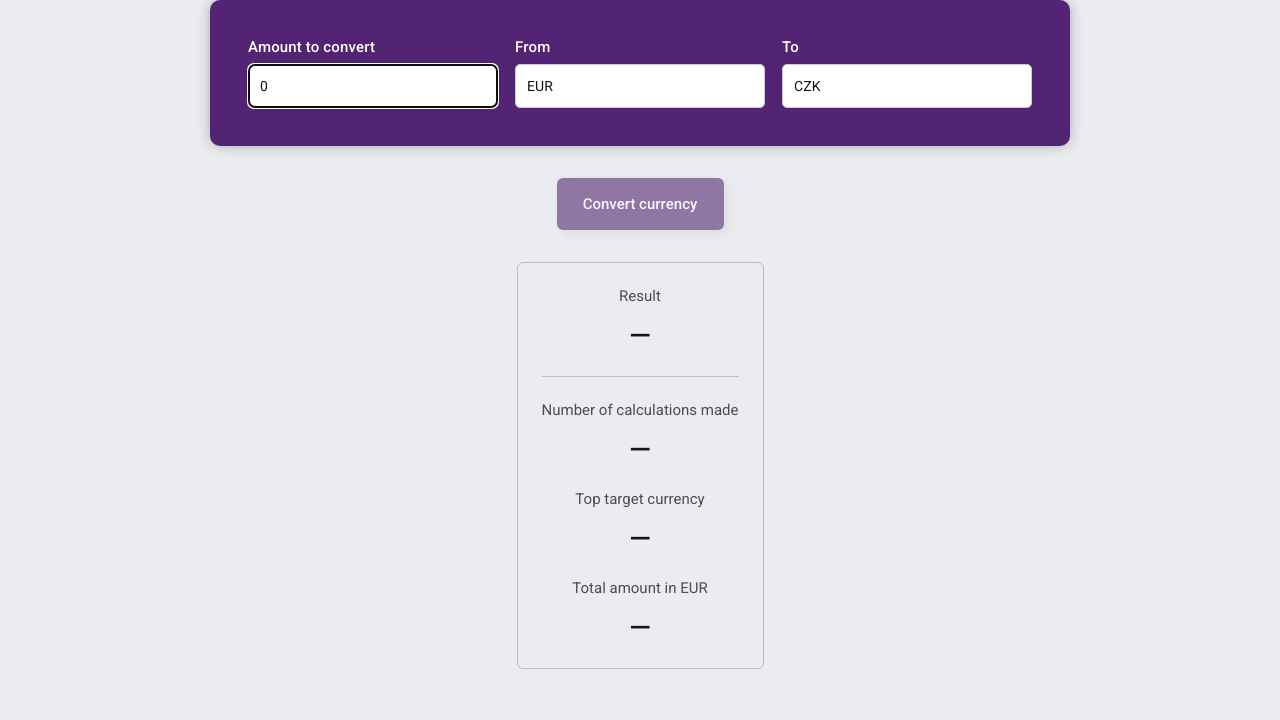
Test: the conversion form › renders an API error translated by its key with its params
The image size is (1280, 720).
Type "5" into the field labelled "Amount to convert" at point(373, 86), box x1=248 y1=64 x2=498 y2=108
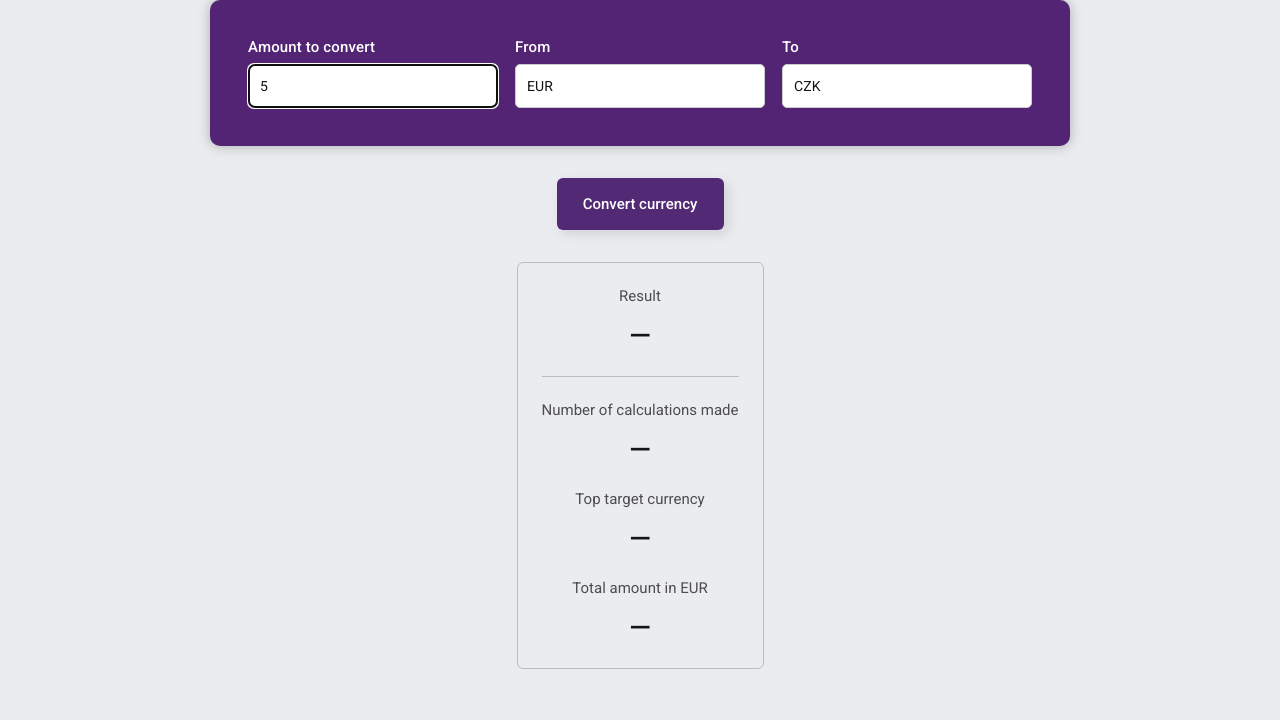
Click the button "Convert currency" at point(640, 204), box x1=556 y1=178 x2=724 y2=230
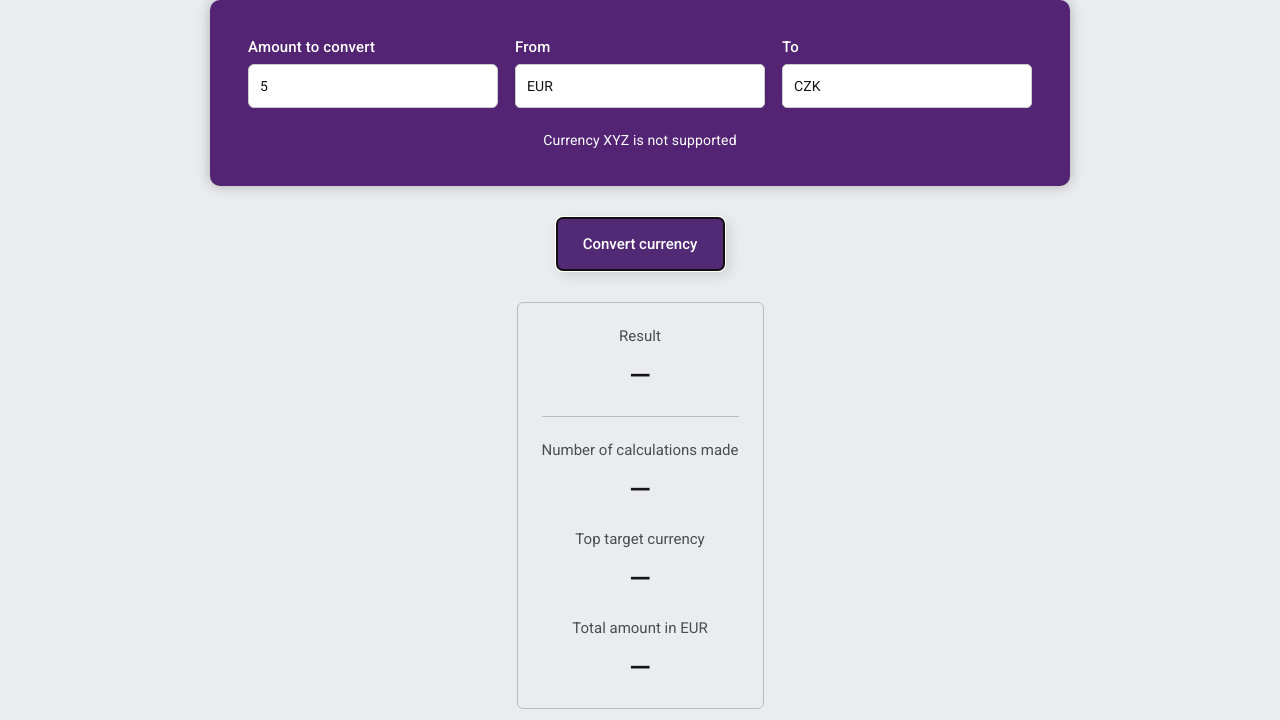
Now the message reads "Currency XYZ is not supported", box x1=543 y1=132 x2=737 y2=148
